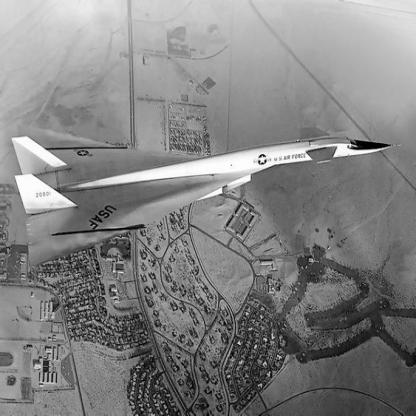XB70: (11, 125, 403, 269)
